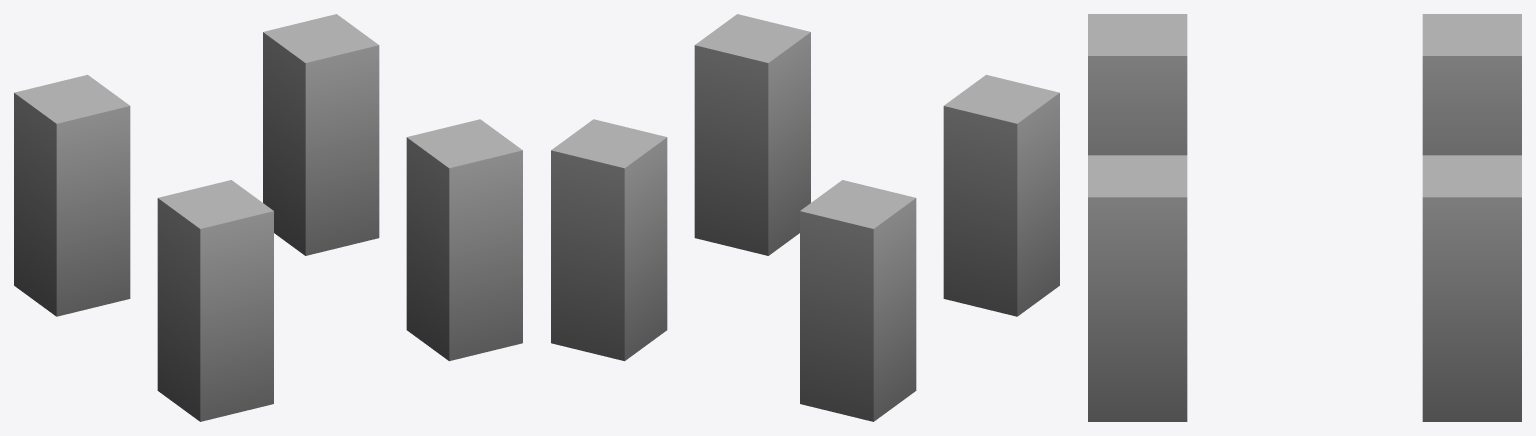
The model's file is Table_leg_02.fbx.
3 views of the same model, side by side, from view 1: azimuth 30°, elevation 25°; view 2: azimuth 150°, elevation 25°; view 3: azimuth 270°, elevation 25° (orthographic). The views are drawn at different scales.
Visible parts, largest first — view 1: Table_leg_02; view 2: Table_leg_02; view 3: Table_leg_02.
Part boxes in pixels (<box>): Table_leg_02: <box>14,14,522,421</box>; Table_leg_02: <box>551,14,1059,421</box>; Table_leg_02: <box>1088,14,1521,421</box>.
Size of the model in its own units: 87.5 by 50 by 87.5.
